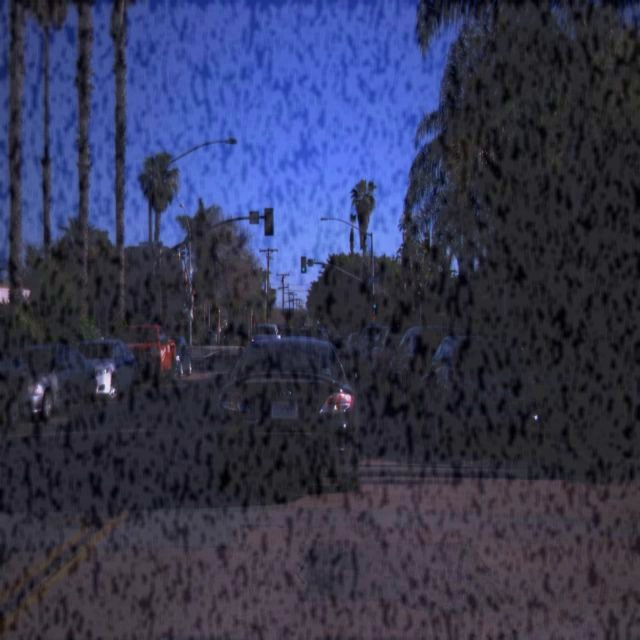go: (299, 251, 308, 274), (370, 292, 380, 312), (180, 288, 190, 308)
go traffic light: (299, 251, 308, 274), (370, 292, 380, 312), (180, 288, 190, 308)
